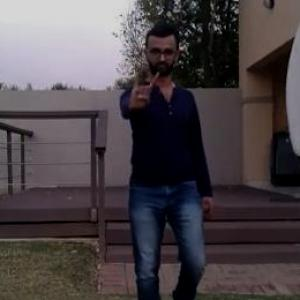takeoff-hand: (122, 66, 165, 118)
